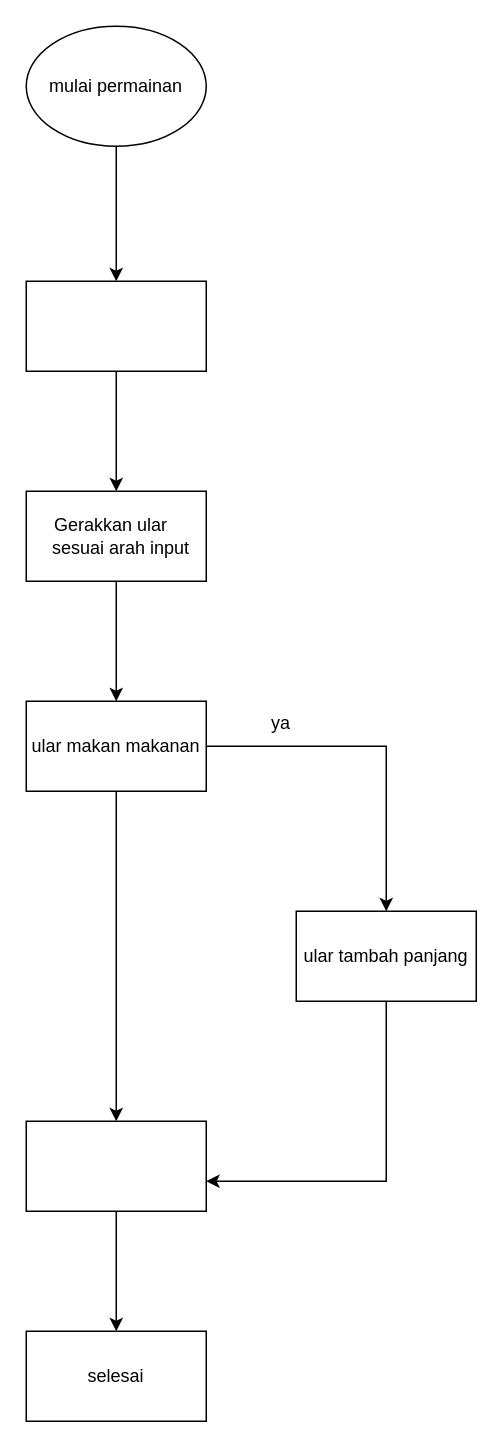
This 503x1448 diagram has some shape labels left out. Each missing label, with the centre of its shape:
nambrak dinding: the point at 115,1165
tampilka posisi awal dan papan score: the point at 115,325
